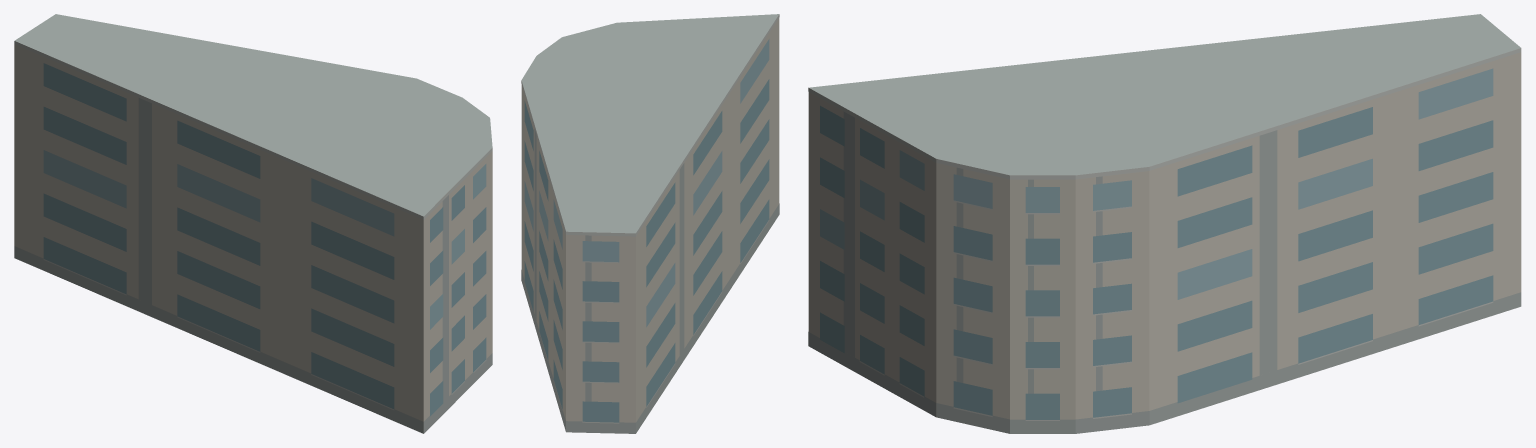
Rendered from residential-dbb33c2f-60d7-45fe-b281-13ee7a191125.glb.
The picture shows the model from 3 angles, left to right: view 1: azimuth 30°, elevation 25°; view 2: azimuth 150°, elevation 25°; view 3: azimuth 270°, elevation 25°; orthographic projection. The views are drawn at different scales.
Visible parts, largest first — view 1: residential-dbb33c2f-60d7-45fe-b281-13ee7a191125.tmp; view 2: residential-dbb33c2f-60d7-45fe-b281-13ee7a191125.tmp; view 3: residential-dbb33c2f-60d7-45fe-b281-13ee7a191125.tmp.
Part boxes in pixels (<box>): residential-dbb33c2f-60d7-45fe-b281-13ee7a191125.tmp: <box>14,14,492,433</box>; residential-dbb33c2f-60d7-45fe-b281-13ee7a191125.tmp: <box>521,14,779,433</box>; residential-dbb33c2f-60d7-45fe-b281-13ee7a191125.tmp: <box>808,14,1521,433</box>.
Bounding box in the file's own units: 20.43 × 15.25 × 38.11.
